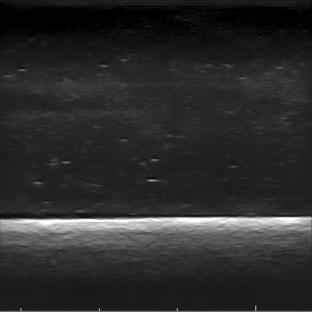vessel: (0, 75, 109, 125)
